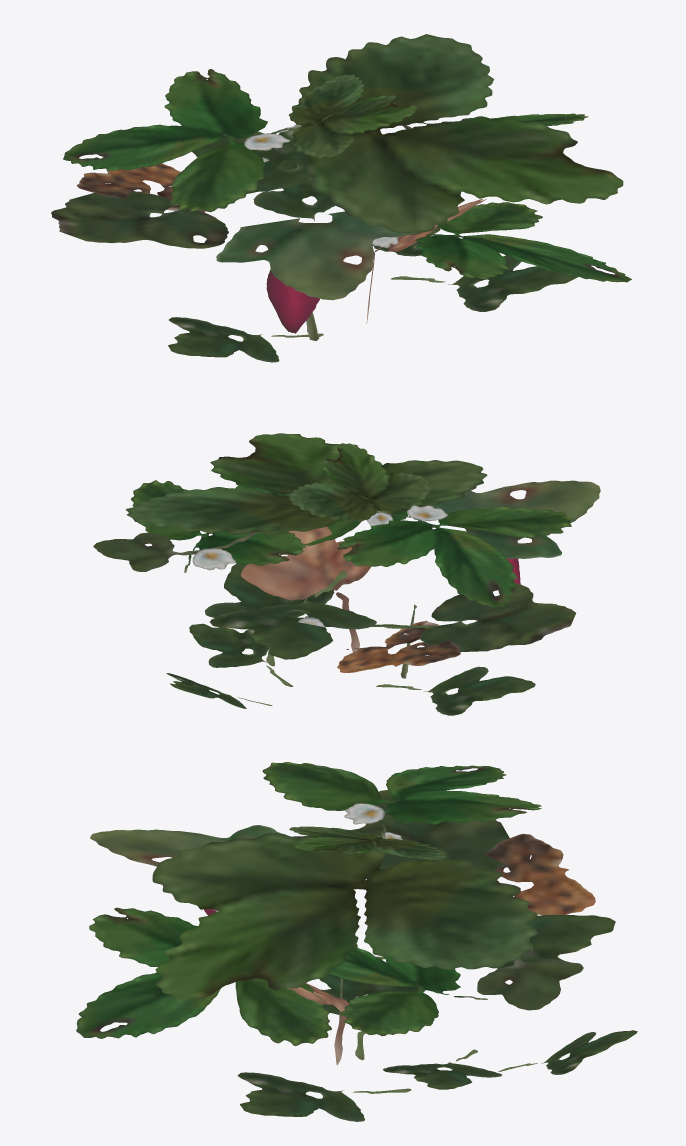
The model's file is arden_forest_strawberry_02_foliage.fbx.
The picture shows the model from 3 angles, top to bottom: view 1: azimuth 30°, elevation 25°; view 2: azimuth 150°, elevation 25°; view 3: azimuth 270°, elevation 25°; orthographic projection. The views are drawn at different scales.
Parts seen in each view (by area): view 1: arden_forest_strawberry_02_foliage; view 2: arden_forest_strawberry_02_foliage; view 3: arden_forest_strawberry_02_foliage.
Part boxes in pixels (bbox=[...]): arden_forest_strawberry_02_foliage: bbox=[51, 34, 631, 362]; arden_forest_strawberry_02_foliage: bbox=[93, 433, 600, 715]; arden_forest_strawberry_02_foliage: bbox=[76, 762, 637, 1121].
Size of the model in its own units: 44.13 by 17.65 by 38.21.
